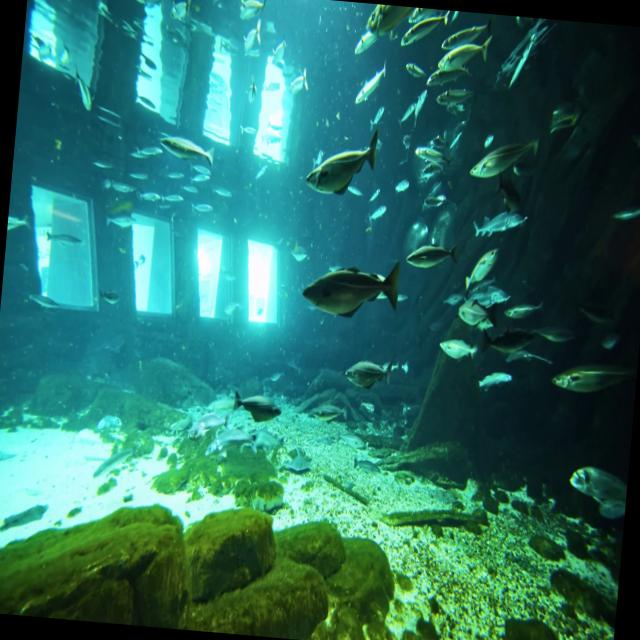fish: (298, 246, 406, 327), (295, 121, 385, 210), (562, 447, 630, 528), (462, 124, 542, 186), (223, 374, 290, 436), (548, 350, 630, 400), (462, 199, 534, 252), (150, 127, 217, 180), (337, 344, 399, 400), (346, 46, 393, 115), (398, 230, 460, 278), (440, 24, 492, 76), (460, 242, 504, 300), (398, 9, 448, 54), (466, 274, 516, 314), (359, 2, 399, 42), (438, 332, 482, 368), (470, 368, 516, 399), (452, 304, 494, 333), (127, 0, 165, 11)
